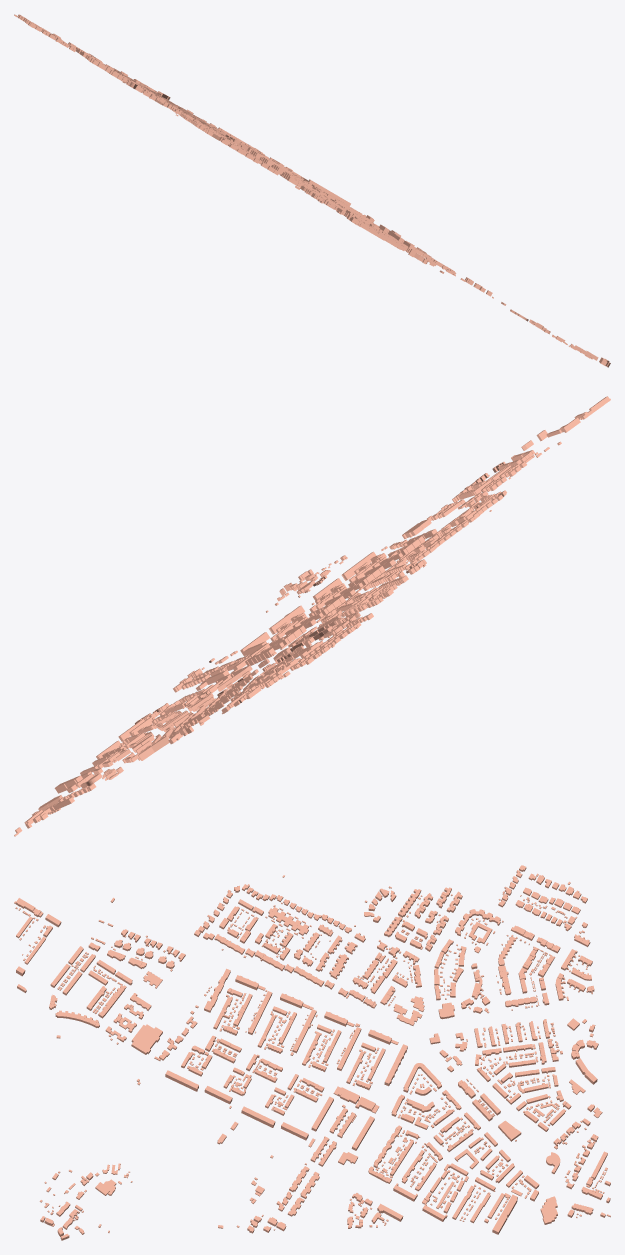
3 views of the same model, one above another, from view 1: azimuth 30°, elevation 25°; view 2: azimuth 150°, elevation 25°; view 3: azimuth 270°, elevation 25° (orthographic). The views are drawn at different scales.
Bounding box in the file's own units: 751 × 538 × 1251.
